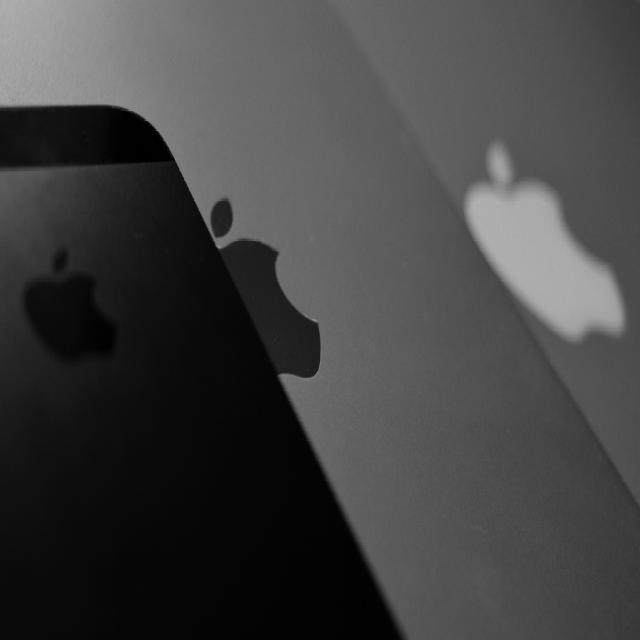Mobile-phone: (0, 108, 405, 640)
